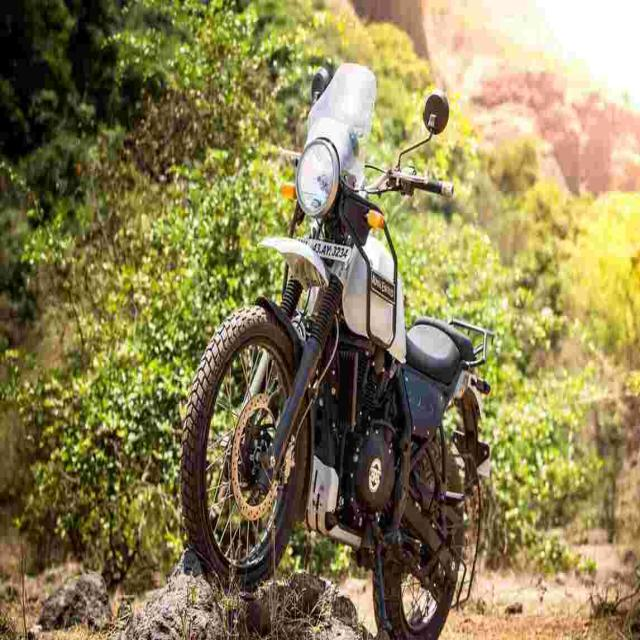motorcycle: (180, 64, 492, 639)
